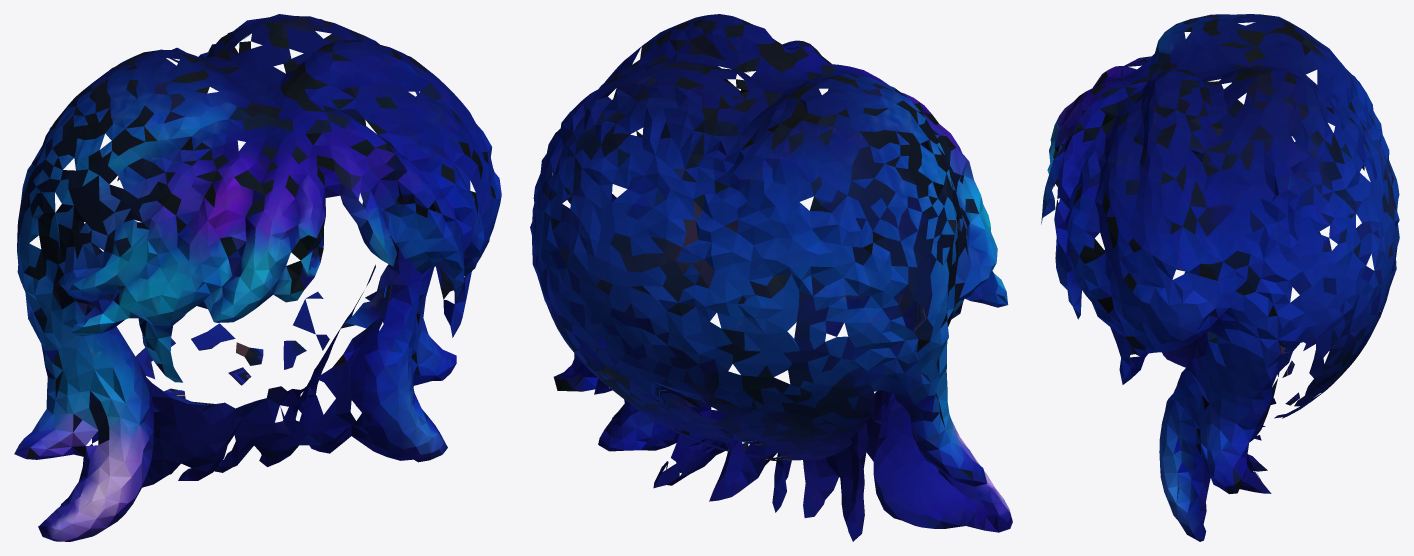
The model's file is hairstyle_061.glb.
3 renders of one model, left to right at view 1: azimuth 30°, elevation 25°; view 2: azimuth 150°, elevation 25°; view 3: azimuth 270°, elevation 25°, orthographic. The views are drawn at different scales.
Parts seen in each view (by area): view 1: geometry_0_061; view 2: geometry_0_061; view 3: geometry_0_061.
Boxes of the visible parts, box(x1,y1,x2,y2) form: geometry_0_061: box(14, 14, 501, 541); geometry_0_061: box(530, 14, 1012, 541); geometry_0_061: box(1041, 14, 1399, 541).
Size of the model in its own units: 1.65 by 1.58 by 1.23.
Materials: 1 (1 with a texture image).
